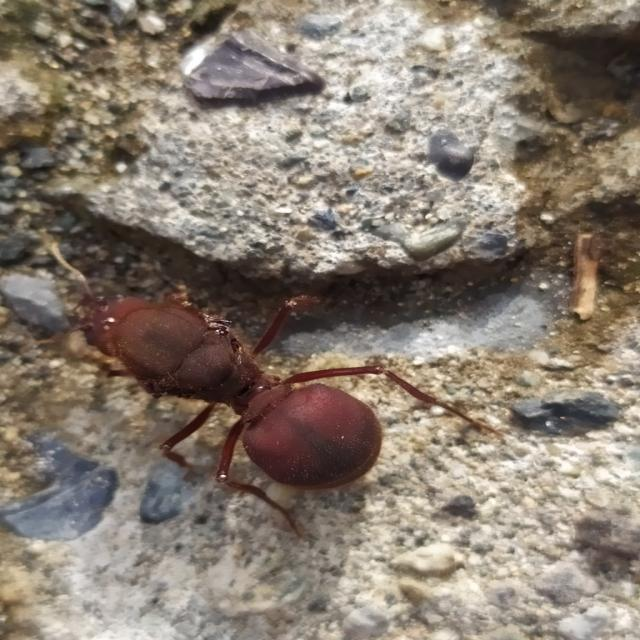Alive-Female-Dealate: (0, 226, 504, 549)
